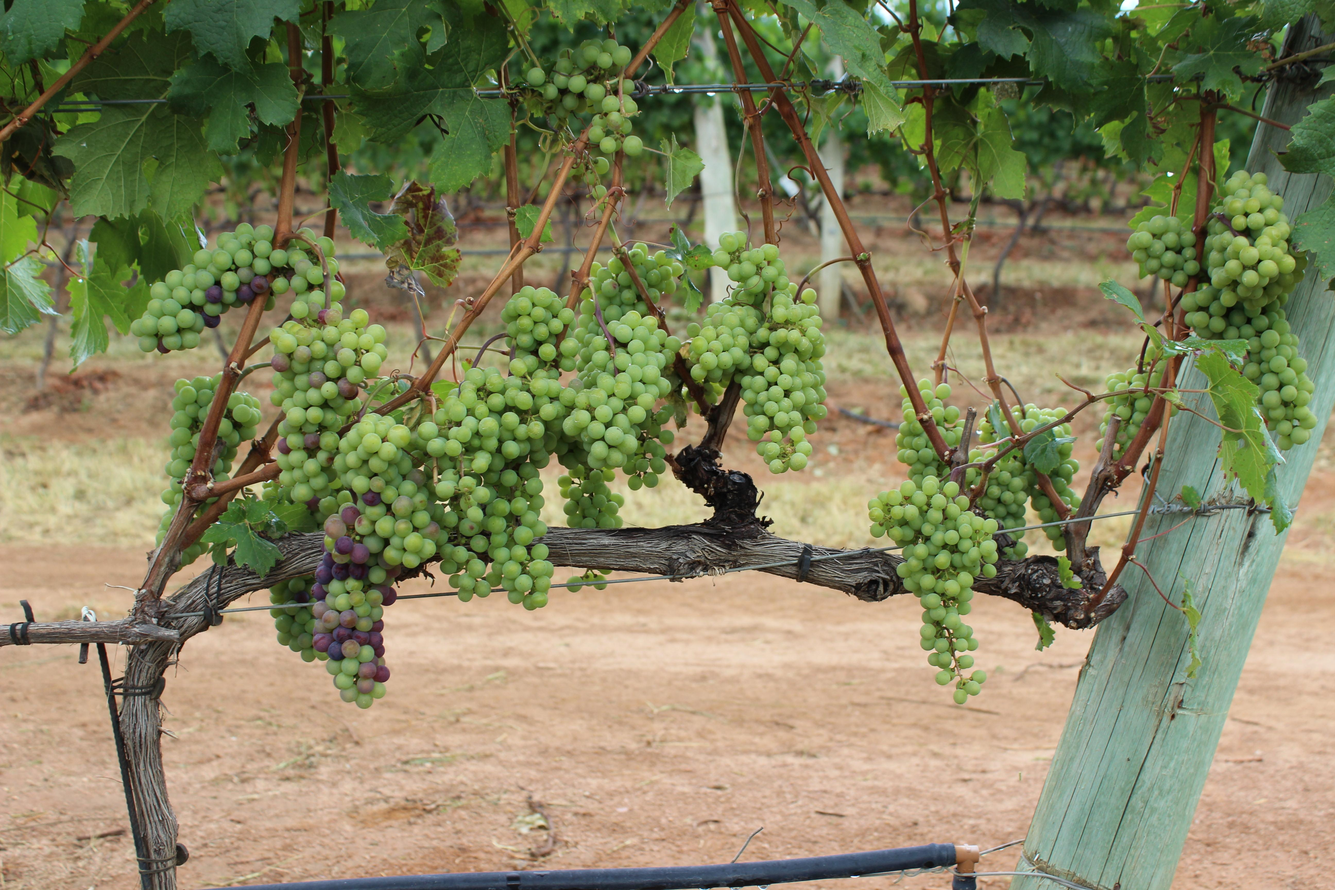leaf: (54, 105, 221, 217), (1196, 351, 1283, 502), (168, 56, 299, 153), (328, 0, 445, 90), (67, 241, 148, 370), (785, 0, 893, 94), (164, 0, 301, 69), (386, 181, 460, 287), (1173, 16, 1262, 97), (328, 171, 408, 250), (0, 0, 85, 67), (0, 255, 58, 334), (651, 3, 696, 84), (660, 133, 705, 208), (0, 190, 38, 263), (1023, 429, 1076, 474), (862, 82, 905, 135), (1181, 575, 1203, 678), (1265, 467, 1294, 534), (515, 204, 541, 239), (1031, 612, 1054, 651), (1057, 555, 1083, 589), (1180, 484, 1201, 510), (540, 218, 554, 243)
